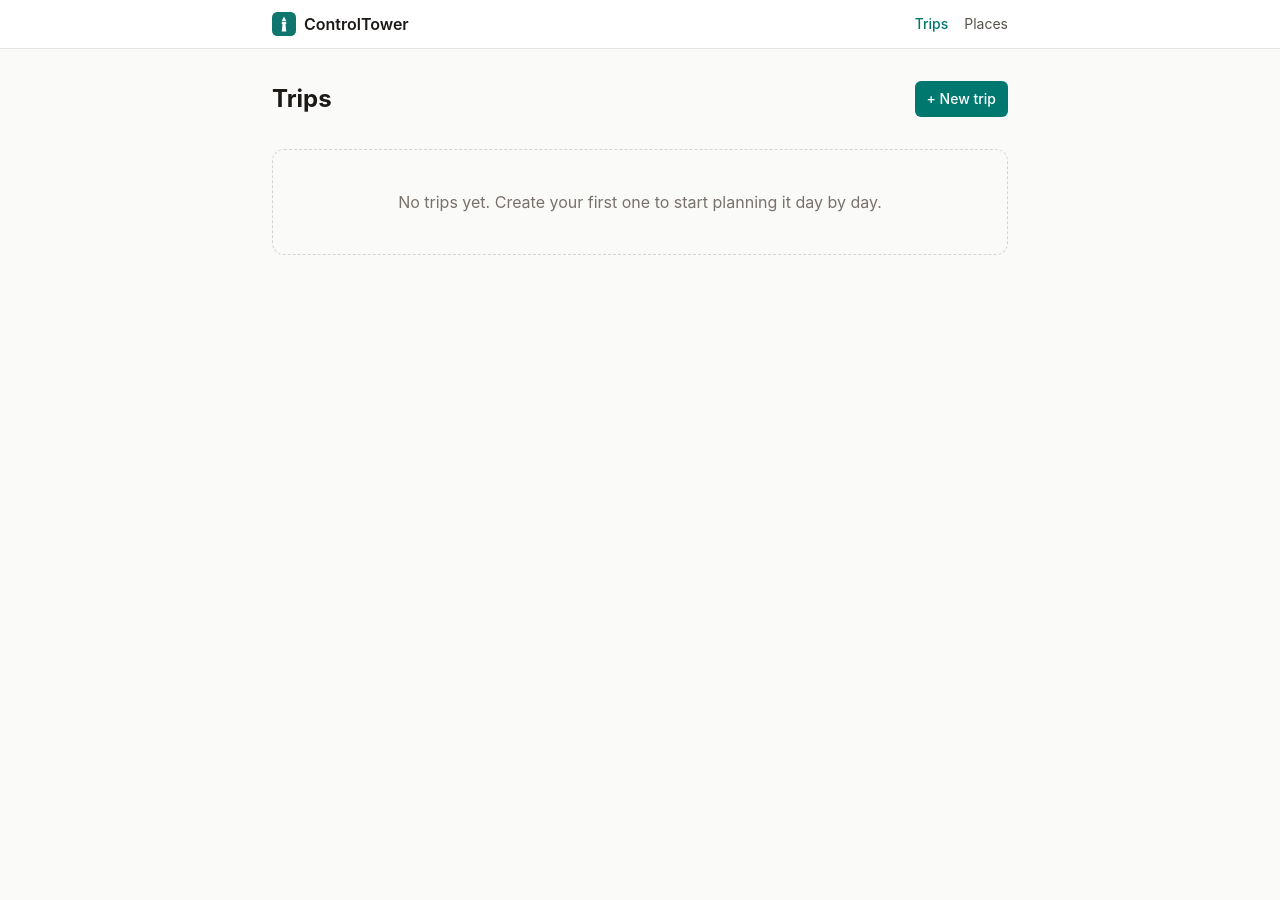
Test: App › creates a trip and goes to it
Click the button "+ New trip". click: (961, 99)
box: [914,81,1008,117]
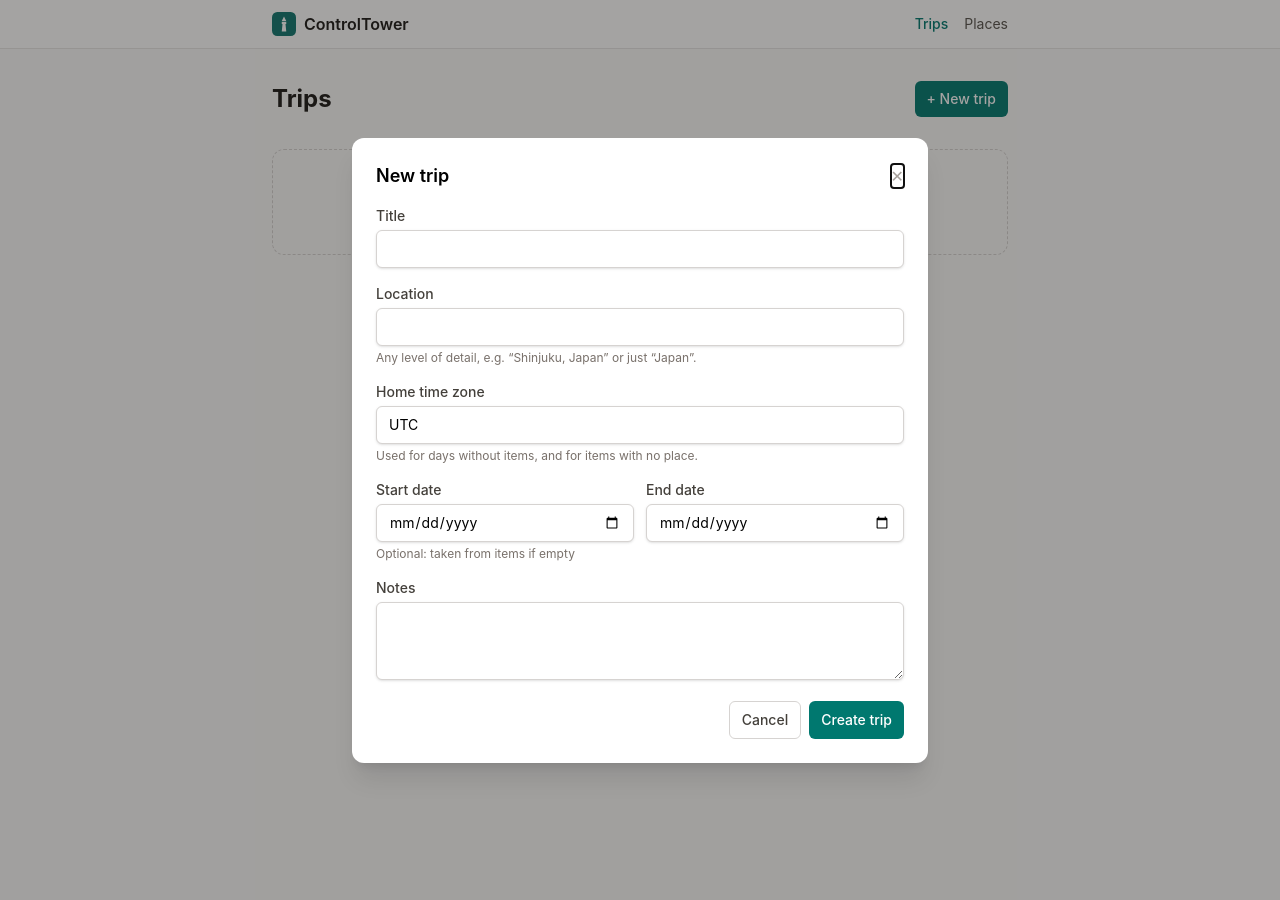
Type "Kyoto" into the field labelled "Title". click: (640, 248)
box: [376,230,904,268]
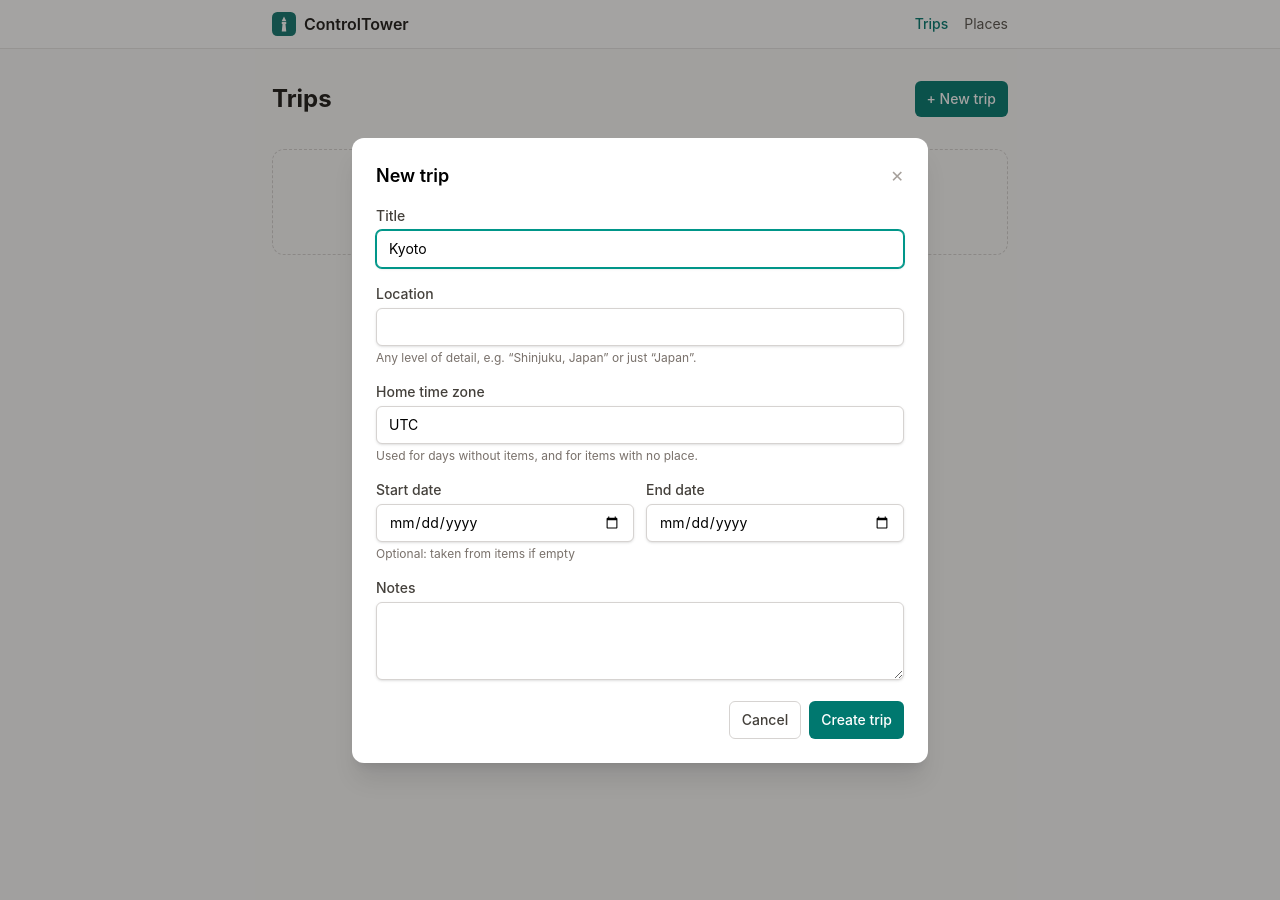
Click the button "Create trip". click: (857, 720)
box: [809,700,904,738]
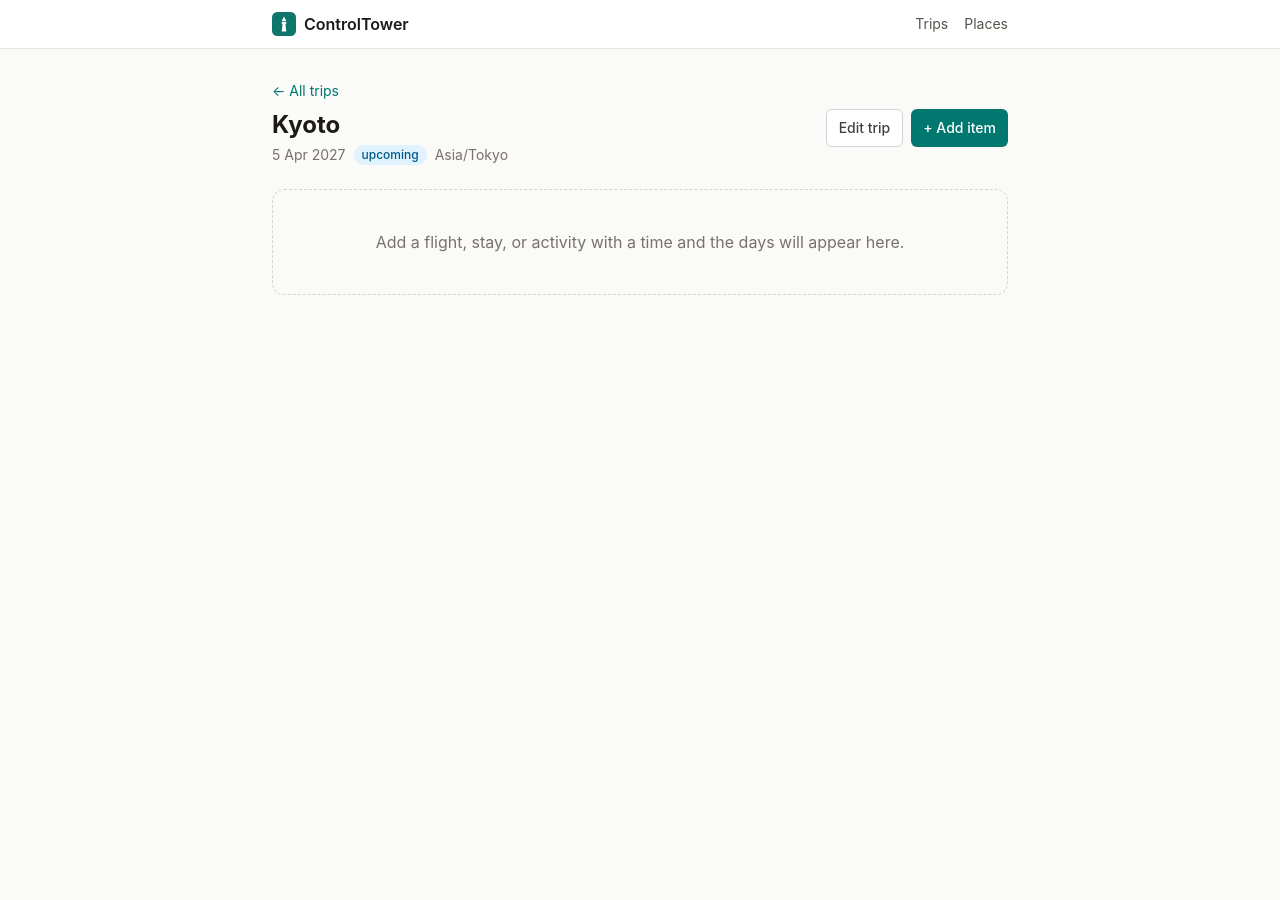
Expected: the heading "Kyoto" is shown, [272,110,340,139]
